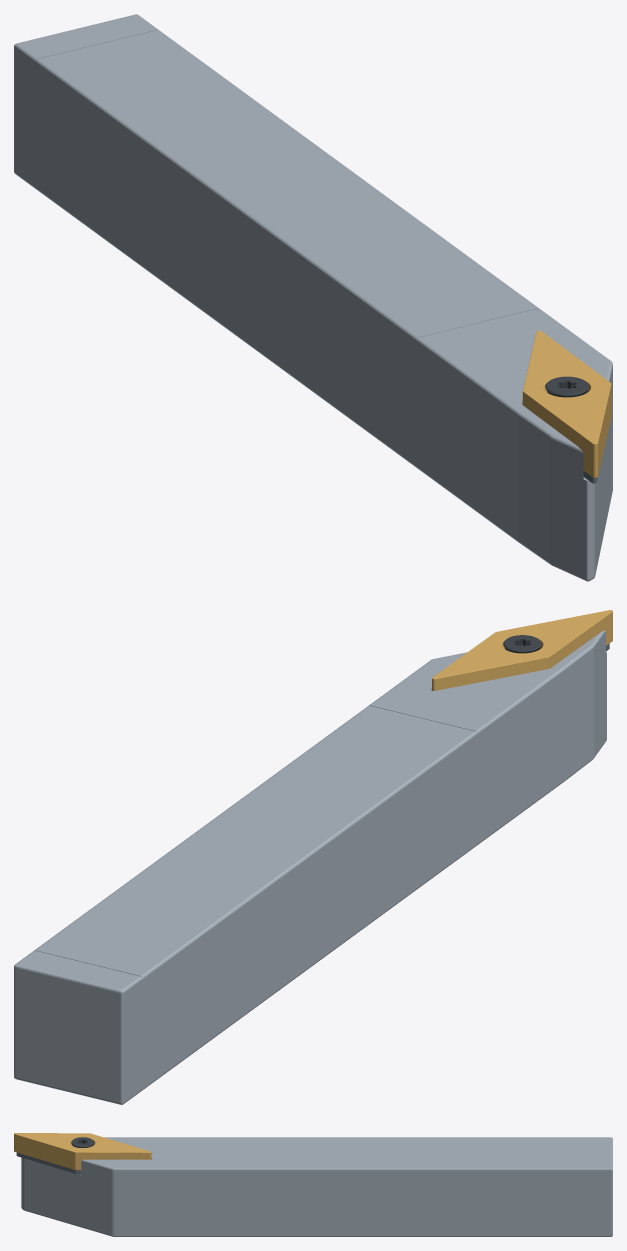
Rendered from tool35-r0.2.glb.
3 views of the same model, one above another, from view 1: azimuth 30°, elevation 25°; view 2: azimuth 150°, elevation 25°; view 3: azimuth 270°, elevation 25° (orthographic). The views are drawn at different scales.
Parts seen in each view (by area): view 1: Holder_Main, Carbide_Insert_35deg, Screw_Head; view 2: Holder_Main, Carbide_Insert_35deg; view 3: Holder_Main, Carbide_Insert_35deg, Insert_Seat, Screw_Head.
Part boxes in pixels (x1=…): Holder_Main: x1=14, y1=14, x2=612, y2=581; Carbide_Insert_35deg: x1=522, y1=330, x2=611, y2=477; Screw_Head: x1=545, y1=376, x2=588, y2=397; Holder_Main: x1=14, y1=630, x2=606, y2=1104; Carbide_Insert_35deg: x1=432, y1=610, x2=612, y2=690; Holder_Main: x1=21, y1=1137, x2=612, y2=1236; Carbide_Insert_35deg: x1=14, y1=1133, x2=151, y2=1170; Insert_Seat: x1=16, y1=1152, x2=81, y2=1173; Screw_Head: x1=71, y1=1137, x2=94, y2=1147.
Size of the model in its own units: 0.01 by 0.0111 by 0.0791.
